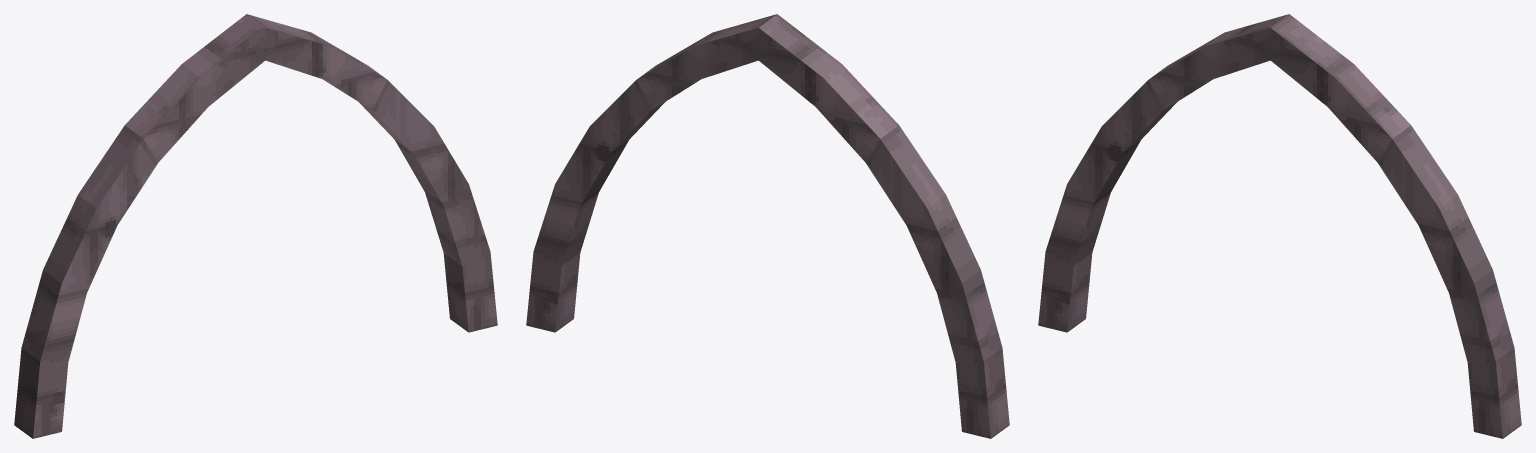
The model's file is fuehrung_normal_c.glb.
3 views of the same model, side by side, from view 1: azimuth 30°, elevation 25°; view 2: azimuth 150°, elevation 25°; view 3: azimuth 330°, elevation 25° (orthographic).
Parts seen in each view (by area): view 1: fuehrung_normal; view 2: fuehrung_normal; view 3: fuehrung_normal.
Boxes of the visible parts, x1,y1,x2,y2 form: fuehrung_normal: (14,14,497,438); fuehrung_normal: (526,14,1009,438); fuehrung_normal: (1038,14,1521,438).
Bounding box in the file's own units: 2 × 1.46 × 0.14.
1 material, 1 textured.
